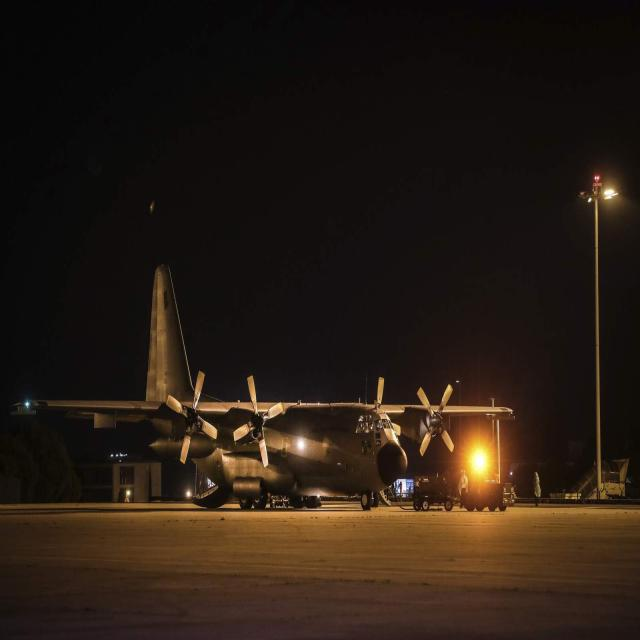MIL_Plane: (9, 0, 515, 189)
